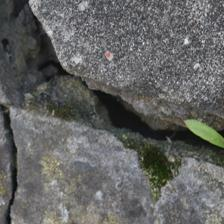Crack: (0, 136, 82, 224), (0, 72, 69, 146)
